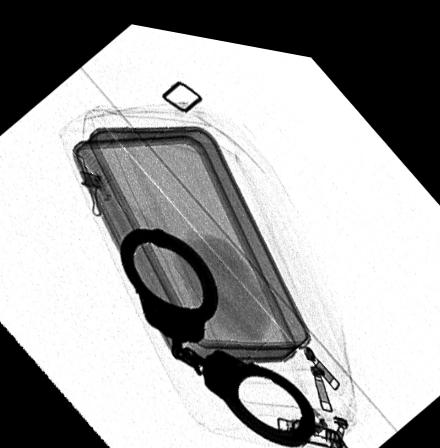HandCuffs: (118, 220, 315, 437)
